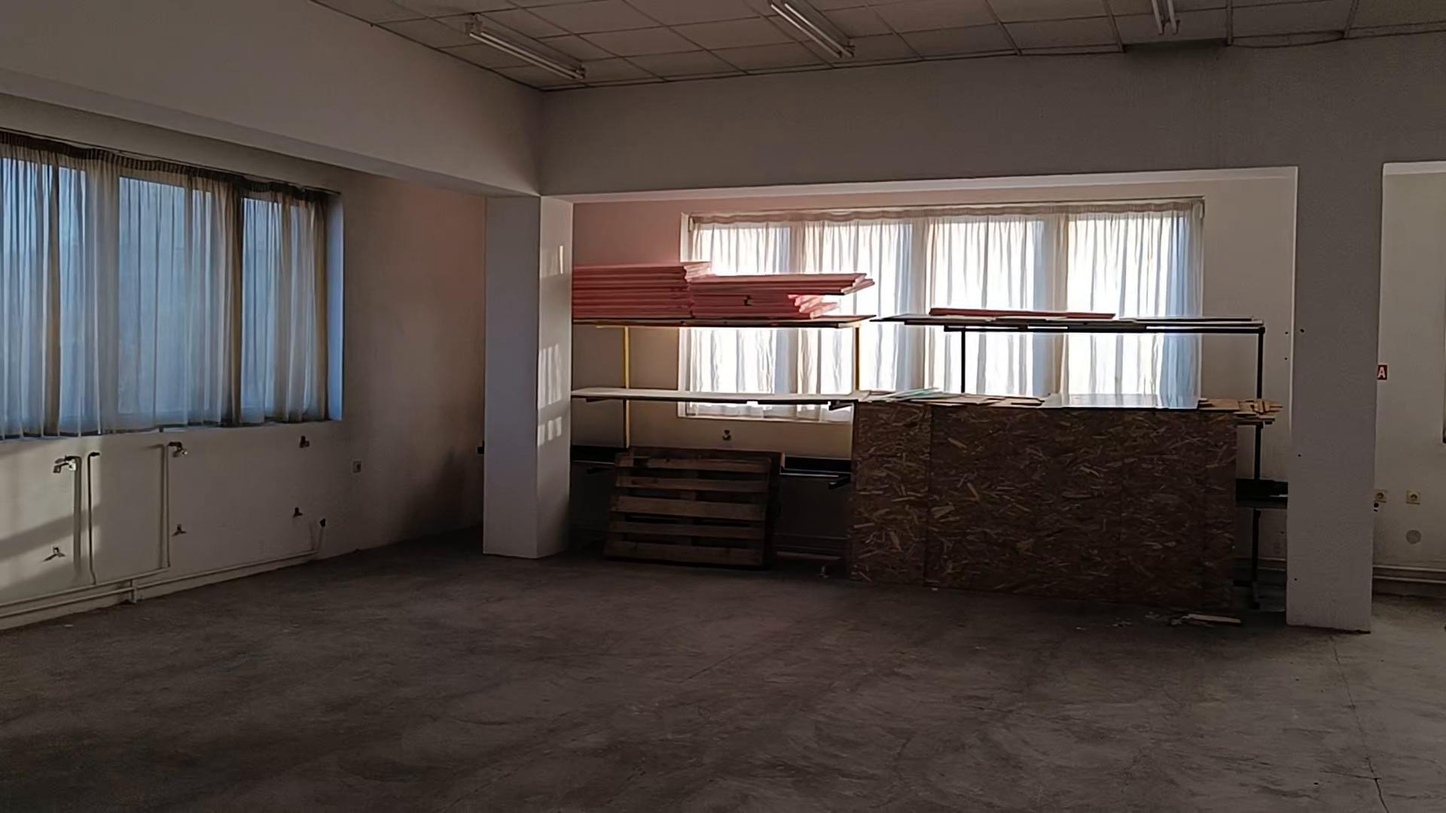ceiling: (315, 0, 1445, 90)
floor: (0, 542, 1445, 812)
